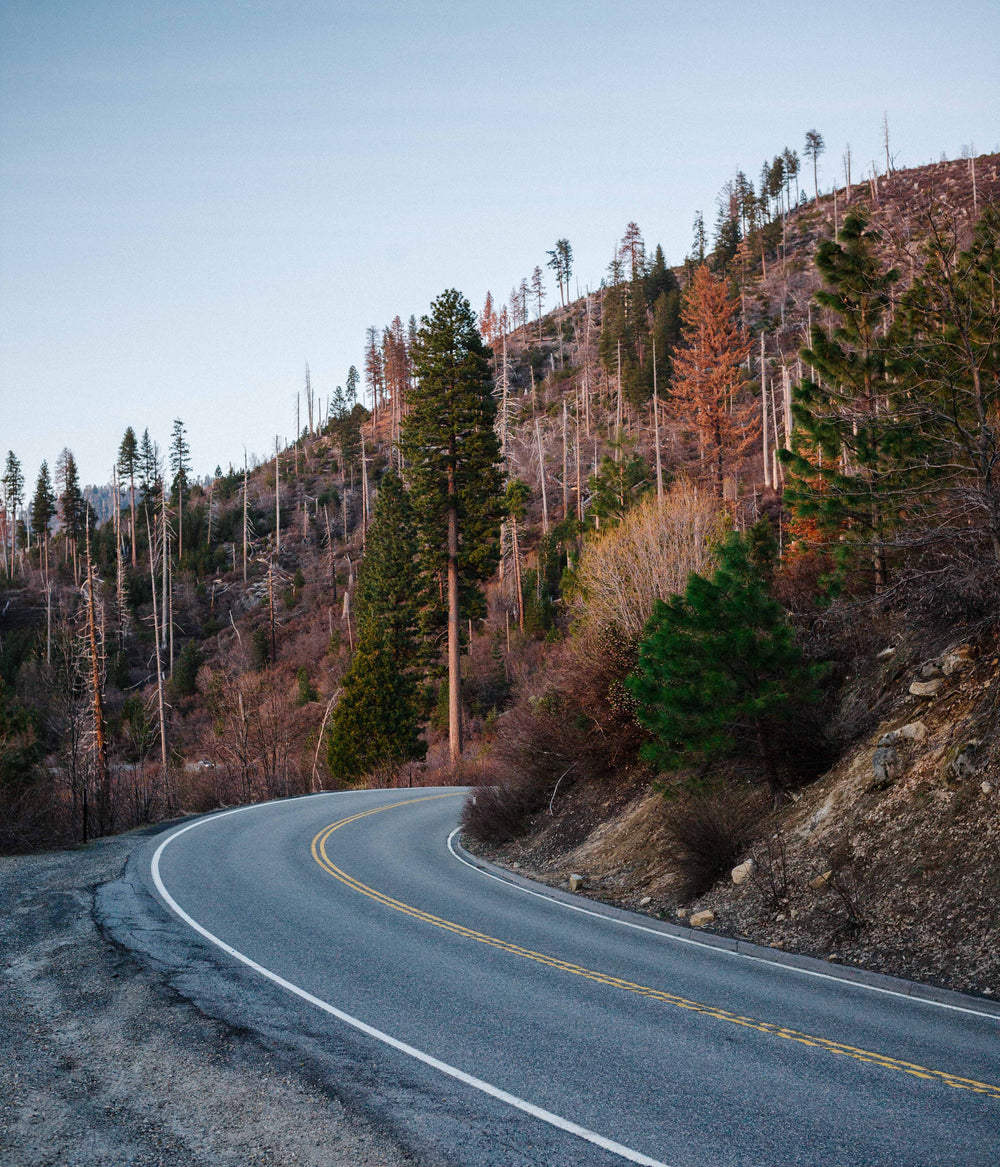rightTrun: (140, 753, 490, 1064)
